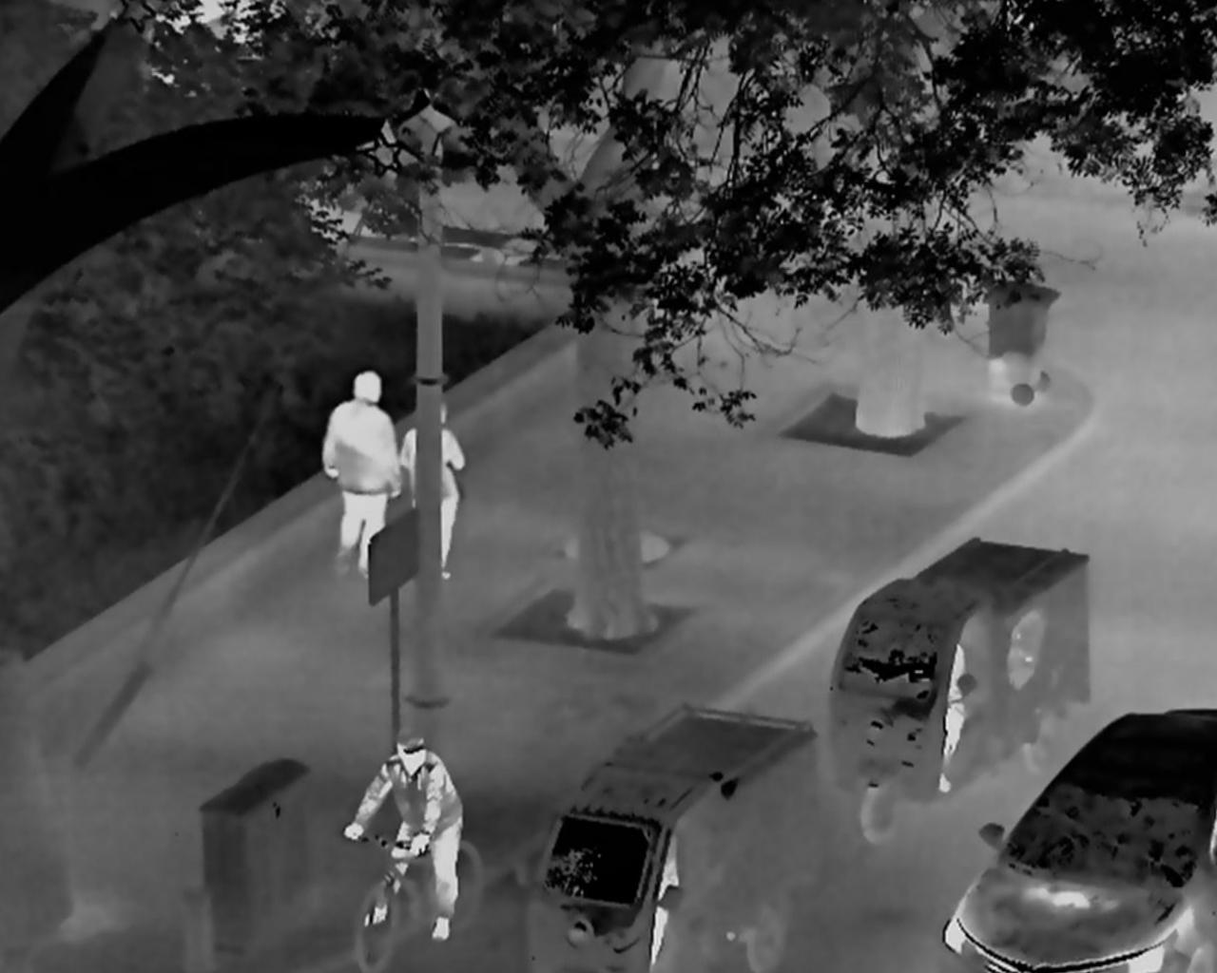person: (344, 726, 463, 941), (321, 371, 400, 579), (400, 394, 466, 580), (937, 640, 968, 792), (648, 833, 680, 968)
